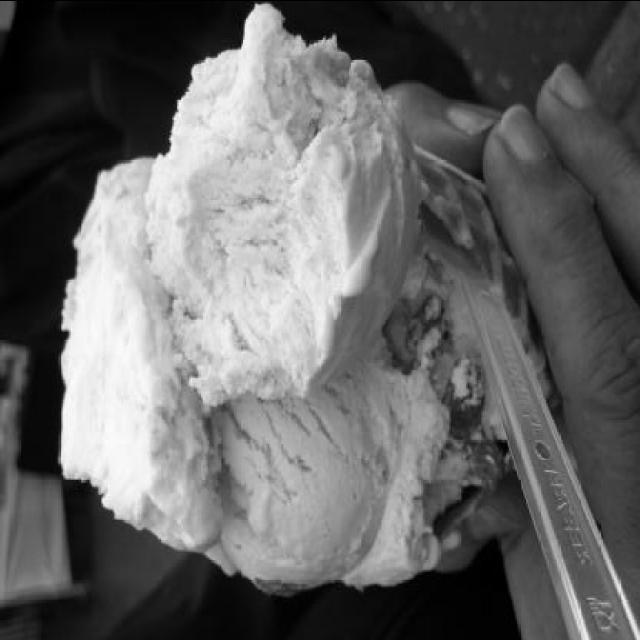Ice cream: (52, 1, 550, 593)
